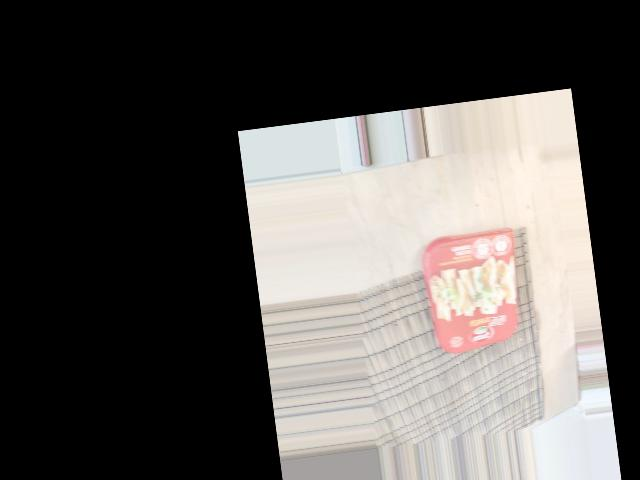cheese: (353, 269, 491, 375)
